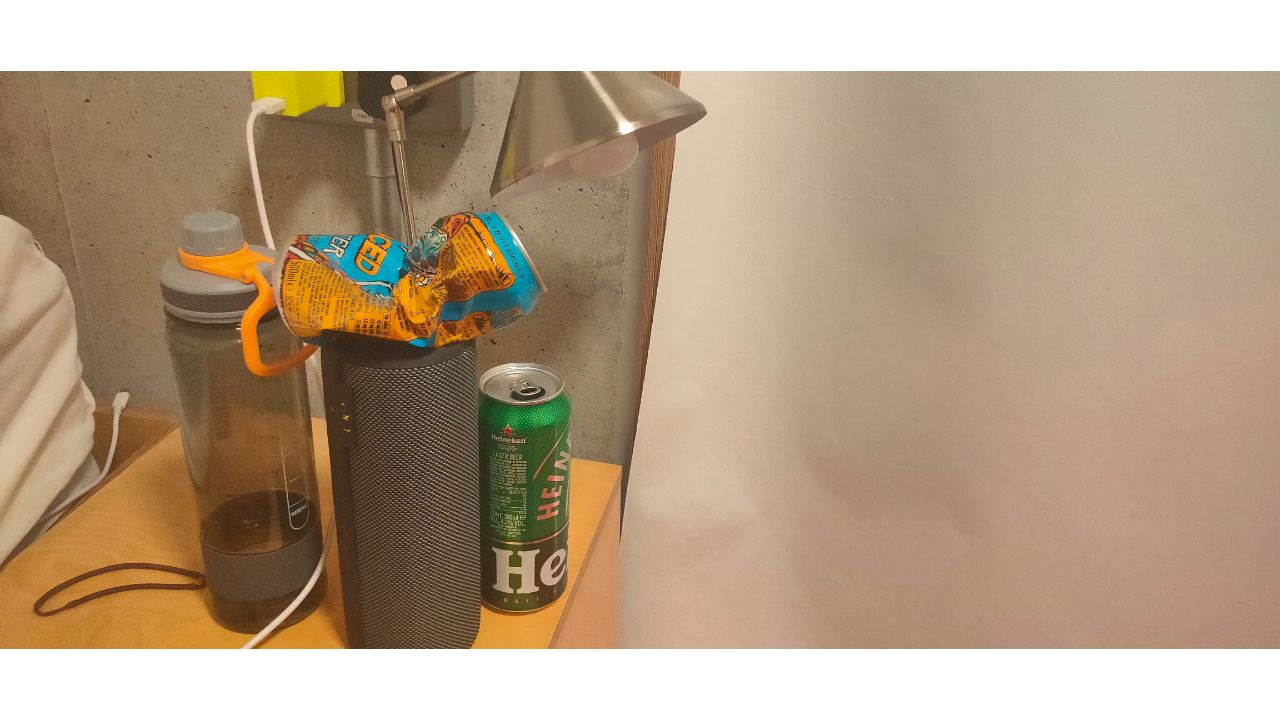Can: (277, 212, 550, 344), (476, 363, 569, 613)
